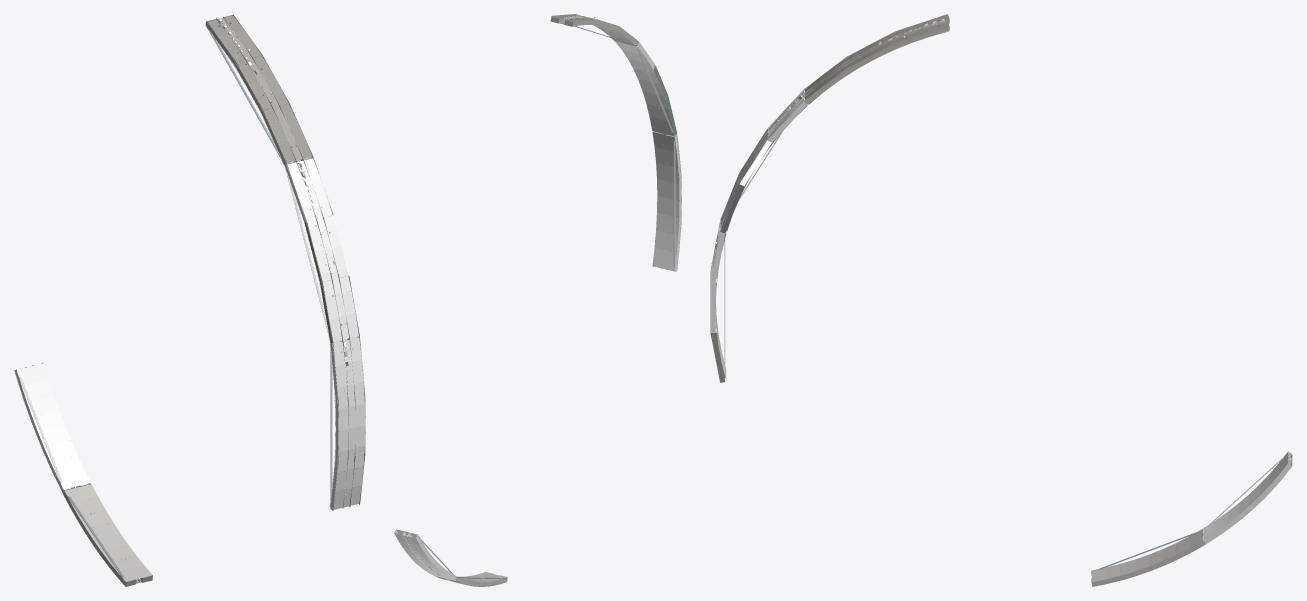
File: xuanshu_interior_C42.glb
The picture shows the model from 3 angles, left to right: view 1: azimuth 30°, elevation 25°; view 2: azimuth 150°, elevation 25°; view 3: azimuth 270°, elevation 25°; orthographic projection. The views are drawn at different scales.
Visible parts, largest first — view 1: UNIT-FOD-003, UNIT-HAB-008; view 2: UNIT-FOD-003, UNIT-HAB-008; view 3: UNIT-FOD-003, UNIT-HAB-008.
Part boxes in pixels (<box>): UNIT-FOD-003: <box>205,14,365,511</box>; UNIT-HAB-008: <box>14,362,152,586</box>; UNIT-FOD-003: <box>550,14,681,271</box>; UNIT-HAB-008: <box>394,529,507,586</box>; UNIT-FOD-003: <box>710,14,949,382</box>; UNIT-HAB-008: <box>1091,451,1292,586</box>.
Size of the model in its own units: 17.31 by 381 by 358.
